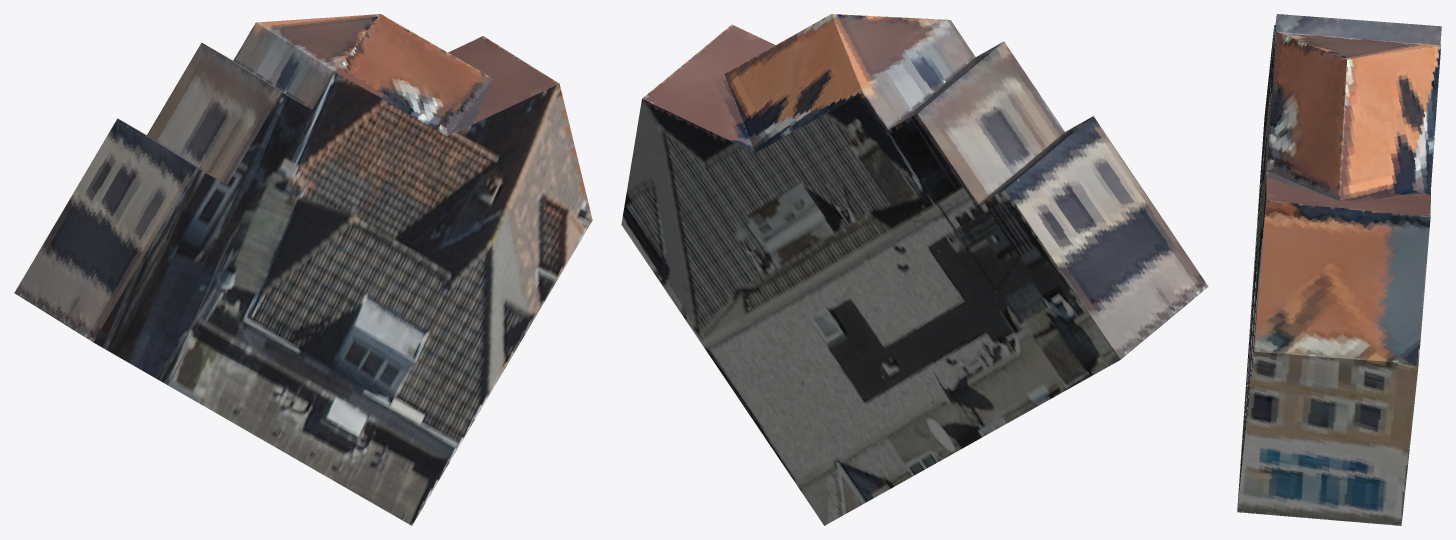
The picture shows the model from 3 angles, left to right: view 1: azimuth 30°, elevation 25°; view 2: azimuth 150°, elevation 25°; view 3: azimuth 270°, elevation 25°; orthographic projection. The views are drawn at different scales.
Visible parts, largest first — view 1: BAG_0599100000760369 (×4); view 2: BAG_0599100000760369 (×4); view 3: BAG_0599100000760369 (×3).
Part boxes in pixels (box(x1,y1,x2,y2)): BAG_0599100000760369 (×4): box(14, 14, 592, 525); BAG_0599100000760369 (×4): box(621, 14, 1208, 525); BAG_0599100000760369 (×3): box(1237, 14, 1441, 525).
Bounding box in the file's own units: 18.91 × 17.29 × 6.73.
4 materials, 4 textured.
